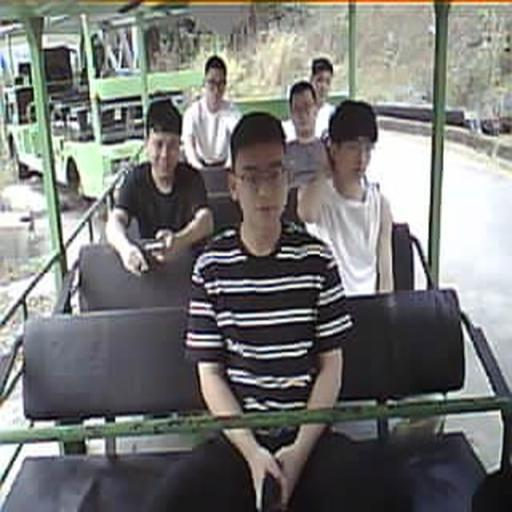persona: (159, 110, 354, 510), (104, 96, 216, 276), (296, 99, 396, 297), (180, 54, 243, 172), (282, 80, 330, 188), (307, 56, 337, 138)
